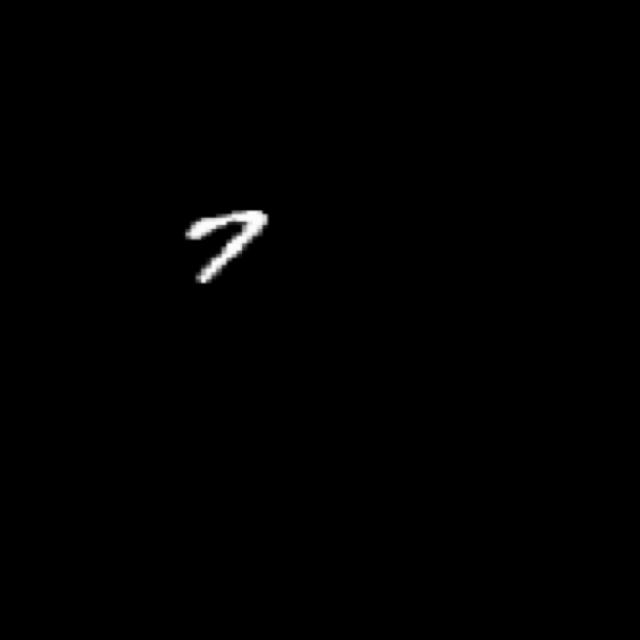seven -7-: (181, 207, 278, 290)
